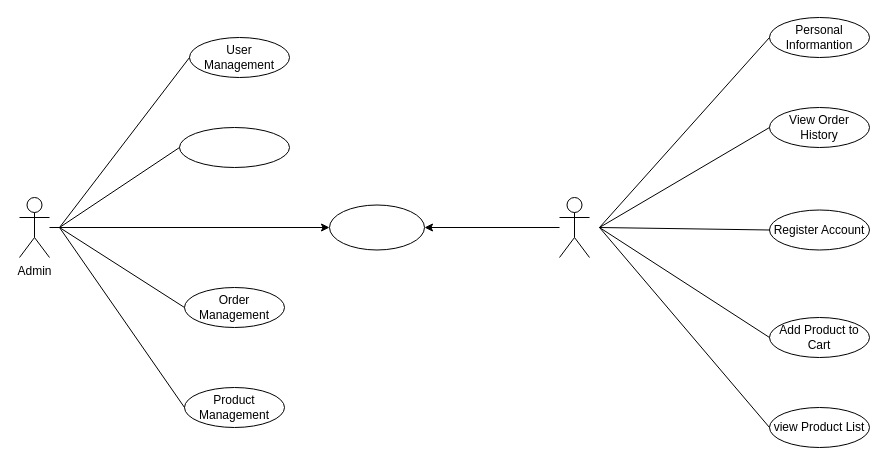
Some shapes in this 887 by 473 pixel diagram are drawn without their labels. The shapes that lost their labels are listed below. From the top down, each one's centre as x and y in pixels, then its label:
At point 234,147: "catagory".
At point 376,227: "Login".
At point 574,227: "User".
